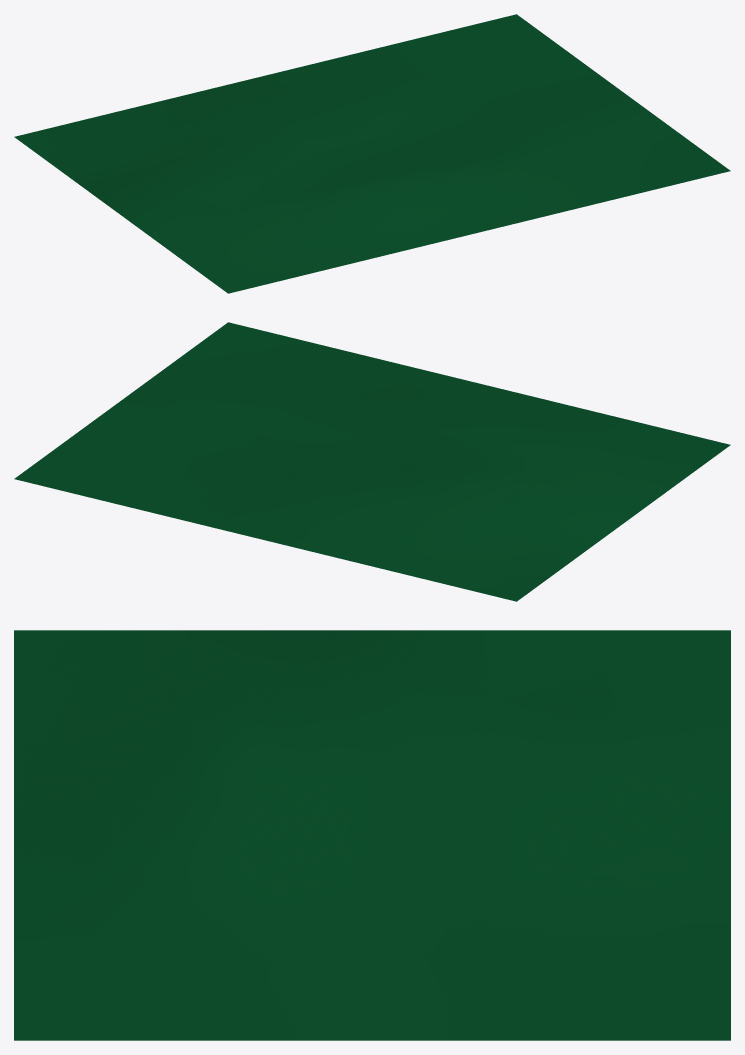
The model's file is Landscape-tile.fbx.
The picture shows the model from 3 angles, top to bottom: view 1: azimuth 30°, elevation 25°; view 2: azimuth 150°, elevation 25°; view 3: azimuth 270°, elevation 25°; orthographic projection. The views are drawn at different scales.
Visible parts, largest first — view 1: Landscape_1_fracturepart23, Landscape_1_fracturepart14, Landscape_1_fracturepart20, Landscape_1_fracturepart7, Landscape_1_fracturepart60, Landscape_1_fracturepart4, Landscape_1_fracturepart12, Landscape_1_fracturepart50, Landscape_1_fracturepart59, Landscape_1_fracturepart33, Landscape_1_fracturepart37, Landscape_1_fracturepart34 (+36 smaller); view 2: Landscape_1_fracturepart23, Landscape_1_fracturepart14, Landscape_1_fracturepart7, Landscape_1_fracturepart20, Landscape_1_fracturepart12, Landscape_1_fracturepart60, Landscape_1_fracturepart37, Landscape_1_fracturepart4, Landscape_1_fracturepart34, Landscape_1_fracturepart50, Landscape_1_fracturepart59, Landscape_1_fracturepart33 (+34 smaller); view 3: Landscape_1_fracturepart23, Landscape_1_fracturepart14, Landscape_1_fracturepart20, Landscape_1_fracturepart7, Landscape_1_fracturepart60, Landscape_1_fracturepart12, Landscape_1_fracturepart4, Landscape_1_fracturepart37, Landscape_1_fracturepart50, Landscape_1_fracturepart59, Landscape_1_fracturepart28, Landscape_1_fracturepart34 (+43 smaller).
Boxes of the visible parts, x1,y1,x2,y2 form: Landscape_1_fracturepart23: (458,18,730,187); Landscape_1_fracturepart14: (299,14,521,96); Landscape_1_fracturepart20: (446,86,662,188); Landscape_1_fracturepart7: (14,106,175,176); Landscape_1_fracturepart60: (459,169,659,225); Landscape_1_fracturepart4: (346,88,455,148); Landscape_1_fracturepart12: (382,116,513,171); Landscape_1_fracturepart50: (174,243,287,293); Landscape_1_fracturepart59: (264,227,364,278); Landscape_1_fracturepart33: (170,204,234,253); Landscape_1_fracturepart37: (139,88,277,120); Landscape_1_fracturepart34: (68,160,192,196); Landscape_1_fracturepart23: (19,322,295,475); Landscape_1_fracturepart14: (14,464,275,531); Landscape_1_fracturepart7: (392,520,570,601); Landscape_1_fracturepart20: (191,339,344,464); Landscape_1_fracturepart12: (259,393,384,456); Landscape_1_fracturepart60: (300,340,453,402); Landscape_1_fracturepart37: (317,498,405,570); Landscape_1_fracturepart4: (196,454,374,482); Landscape_1_fracturepart34: (496,499,597,561); Landscape_1_fracturepart50: (634,430,730,484); Landscape_1_fracturepart59: (561,411,670,447); Landscape_1_fracturepart33: (569,466,675,498); Landscape_1_fracturepart23: (14,944,712,1040); Landscape_1_fracturepart14: (529,844,730,1040); Landscape_1_fracturepart20: (14,894,531,985); Landscape_1_fracturepart7: (482,630,730,736); Landscape_1_fracturepart60: (14,832,195,982); Landscape_1_fracturepart12: (182,838,439,912); Landscape_1_fracturepart4: (373,817,543,941); Landscape_1_fracturepart37: (571,732,730,796); Landscape_1_fracturepart50: (14,630,196,680); Landscape_1_fracturepart59: (14,679,138,744); Landscape_1_fracturepart28: (503,810,594,911); Landscape_1_fracturepart34: (411,630,549,693).
Bounding box in the file's own units: 5580 × 216 × 4119.
1 material, 1 textured.
